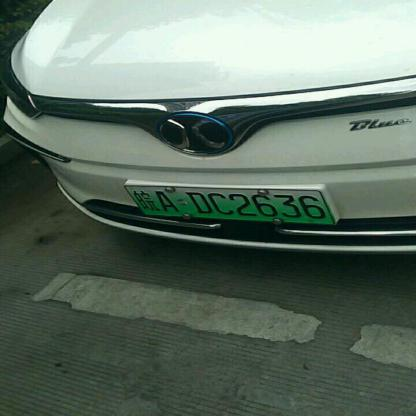lp: (122, 185, 335, 223)
